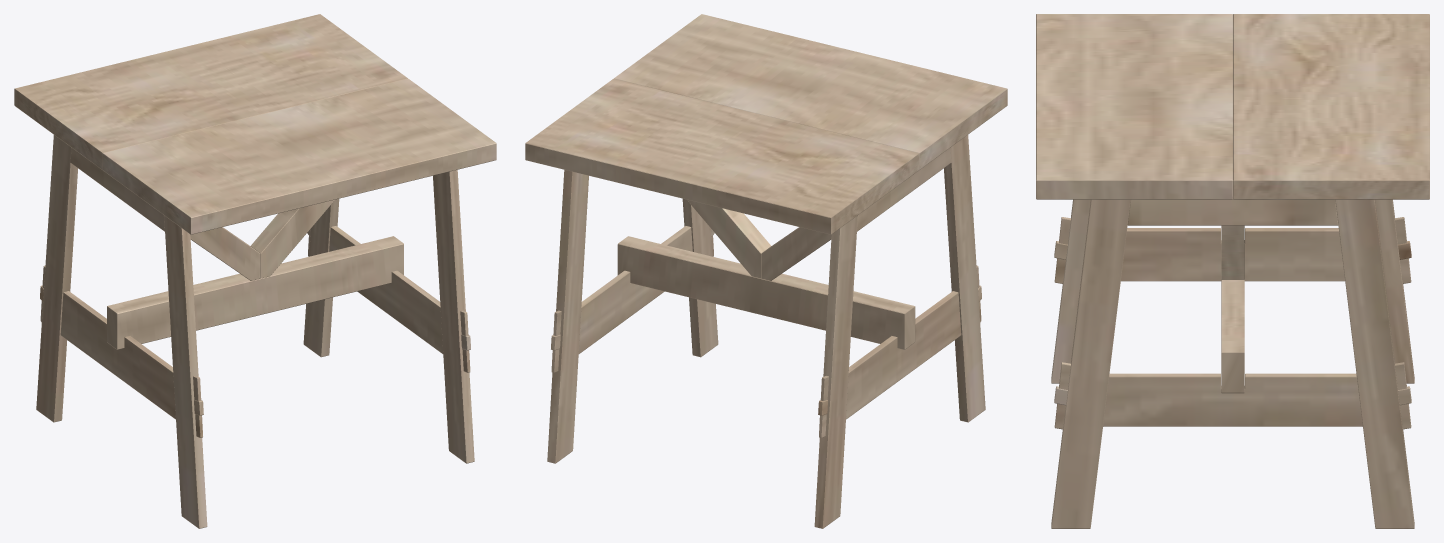
Rendered from sh-bs0-table.glb.
3 views of the same model, side by side, from view 1: azimuth 30°, elevation 25°; view 2: azimuth 150°, elevation 25°; view 3: azimuth 270°, elevation 25° (orthographic). The views are drawn at different scales.
Parts seen in each view (by area): view 1: Table_Untitled.010; view 2: Table_Untitled.010; view 3: Table_Untitled.010.
Boxes of the visible parts, <box> form: Table_Untitled.010: <box>14,14,496,528</box>; Table_Untitled.010: <box>525,14,1007,528</box>; Table_Untitled.010: <box>1036,14,1429,528</box>.
Size of the model in its own units: 1 by 1 by 1.
Materials: 1 (1 with a texture image).
